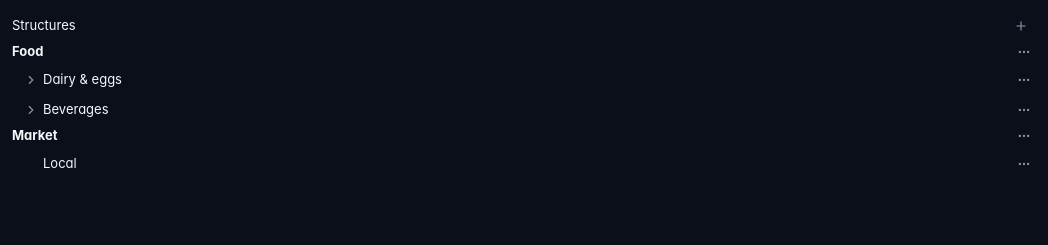
Scenario: model structure tree › starts collapsed and expands only the nodes the user opens
Expected: the element with test id "group-dairy" is shown, x1=12 y1=66 x2=1036 y2=94
Expected: the element with test id "group-beverages" is shown, x1=12 y1=96 x2=1036 y2=124
Click the 1st element with class "twist" at (31, 80), box x1=23 y1=72 x2=39 y2=88
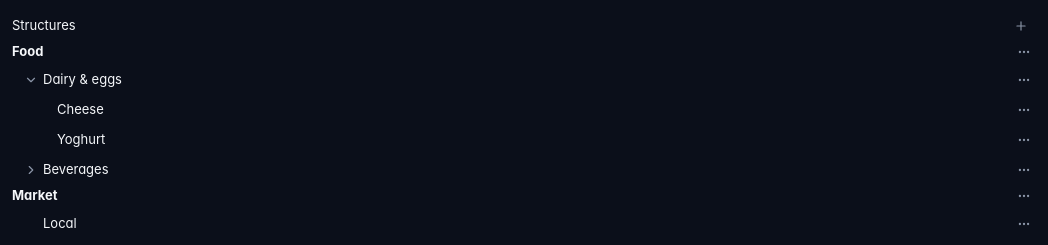
Result: the element with test id "group-cheese" is shown at x1=12 y1=96 x2=1036 y2=124
Result: the element with test id "group-yoghurt" is shown at x1=12 y1=126 x2=1036 y2=154
Result: the button "Dairy & eggs" is expanded at x1=12 y1=66 x2=1008 y2=94
Click the 1st element with class "twist" at (31, 80), box x1=23 y1=72 x2=39 y2=88
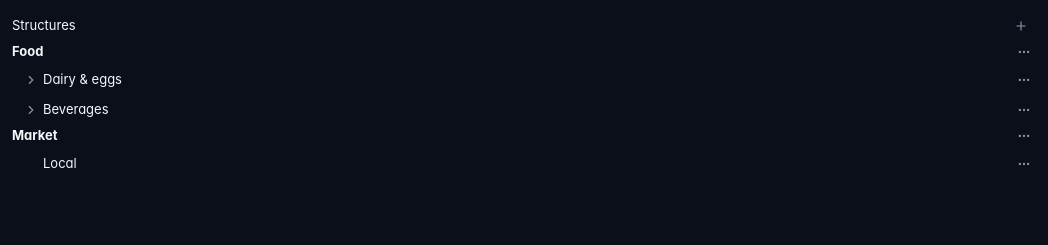
Result: the element with test id "group-cheese" is gone
Result: the button "Dairy & eggs" is collapsed at x1=12 y1=66 x2=1008 y2=94
